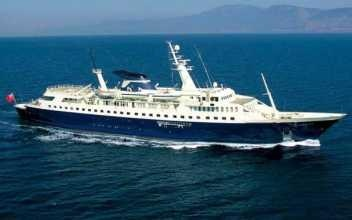youlun: (13, 41, 340, 149)
